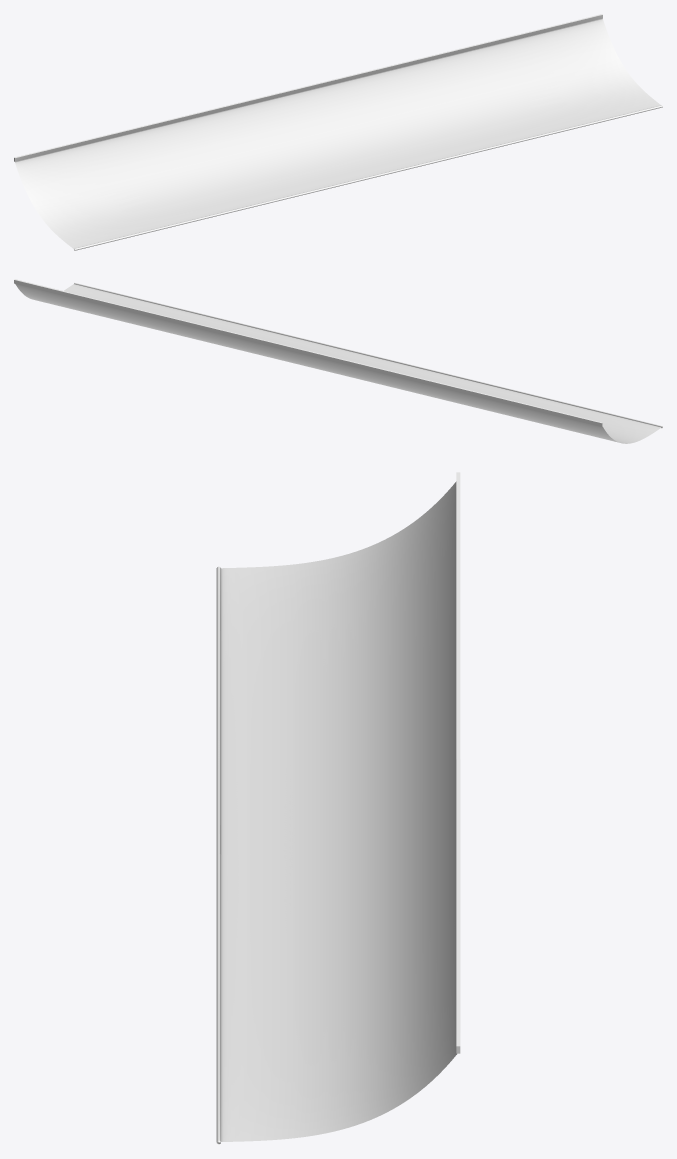
Rendered from umbrella_3.glb.
The picture shows the model from 3 angles, top to bottom: view 1: azimuth 30°, elevation 25°; view 2: azimuth 150°, elevation 25°; view 3: azimuth 270°, elevation 25°; orthographic projection. The views are drawn at different scales.
Parts seen in each view (by area): view 1: umbrella_3; view 2: umbrella_3; view 3: umbrella_3.
Boxes of the visible parts, x1=… form: umbrella_3: x1=14, y1=14, x2=662, y2=250; umbrella_3: x1=14, y1=279, x2=662, y2=443; umbrella_3: x1=216, y1=472, x2=460, y2=1144.
Size of the model in its own units: 6 by 0.4791 by 1.08.
1 material, 1 textured.
